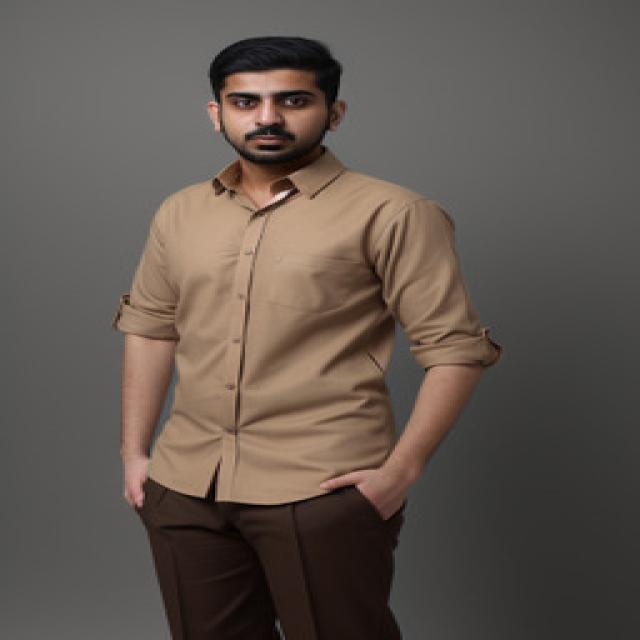Ai human 2: (107, 11, 516, 640)
